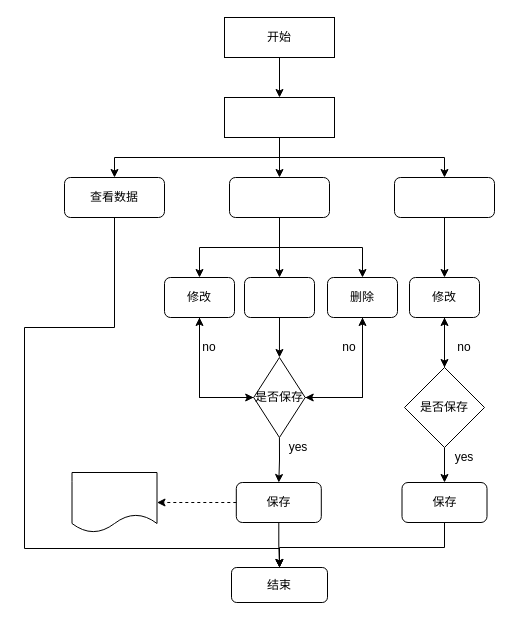
Some shapes in this 512 by 620 pixel diagram are drawn without their labels. The centre of each missing label's shape, as x and y in pixels:
"初始化密码" goes at pixel 279 297.
"报警值管理" goes at pixel 444 197.
"用户信息管理" goes at pixel 279 197.
"用户表" goes at pixel 114 502.
"进入管理员页面" goes at pixel 279 117.
